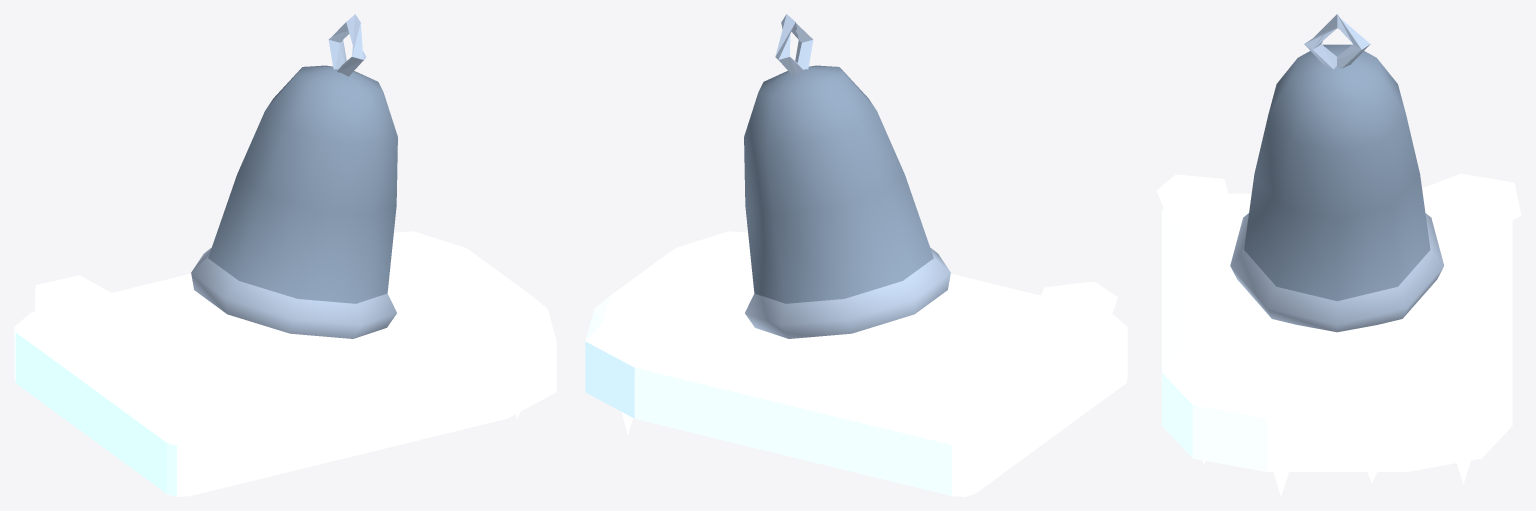
The model's file is ice-bell.glb.
3 views of the same model, side by side, from view 1: azimuth 30°, elevation 25°; view 2: azimuth 150°, elevation 25°; view 3: azimuth 270°, elevation 25° (orthographic). The views are drawn at different scales.
Visible parts, largest first — view 1: ice-bell; view 2: ice-bell; view 3: ice-bell.
Boxes of the visible parts, box(x1,y1,x2,y2) form: ice-bell: box(14, 14, 556, 496); ice-bell: box(585, 14, 1127, 496); ice-bell: box(1156, 14, 1521, 496).
Size of the model in its own units: 1.4 by 1.27 by 1.
